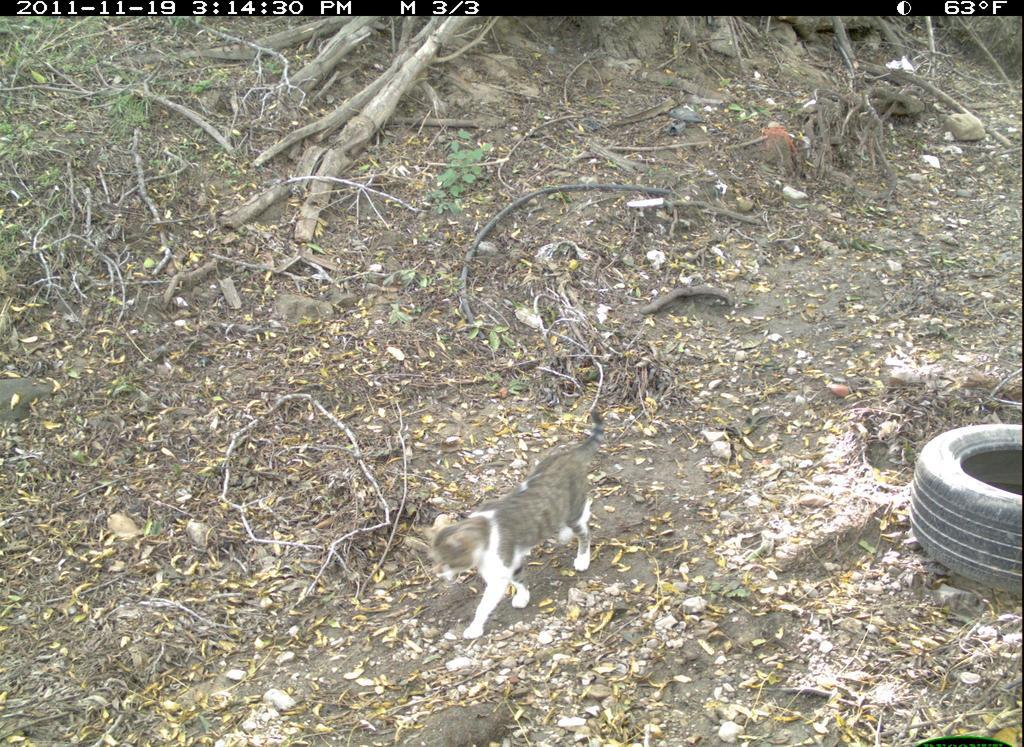cat: (420, 388, 628, 641)
